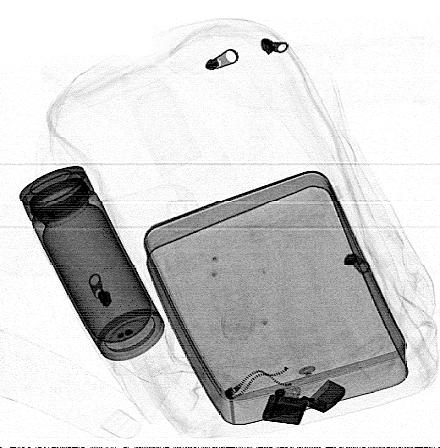Lighter: (262, 378, 346, 426)
